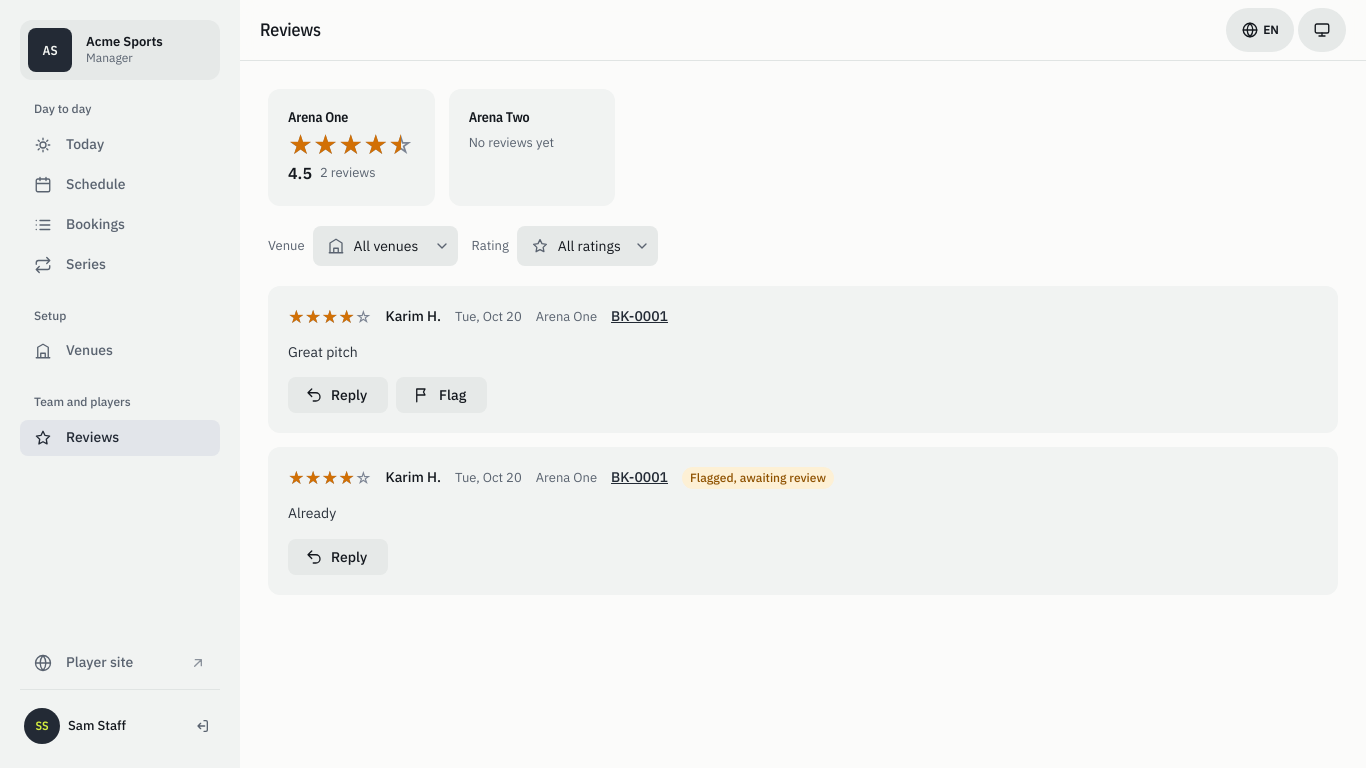
Test: owner Reviews page › flag sends POST with reason and shows the flagged badge; no flag button on a flagged review
The width and height of the screenshot is (1366, 768).
Expected: the text "Great pitch" is shown, [288, 343, 358, 361]
Expected: the text "Flagged, awaiting review" is shown once, [682, 467, 834, 489]
Click the button "Flag": (442, 395) [396, 377, 487, 413]
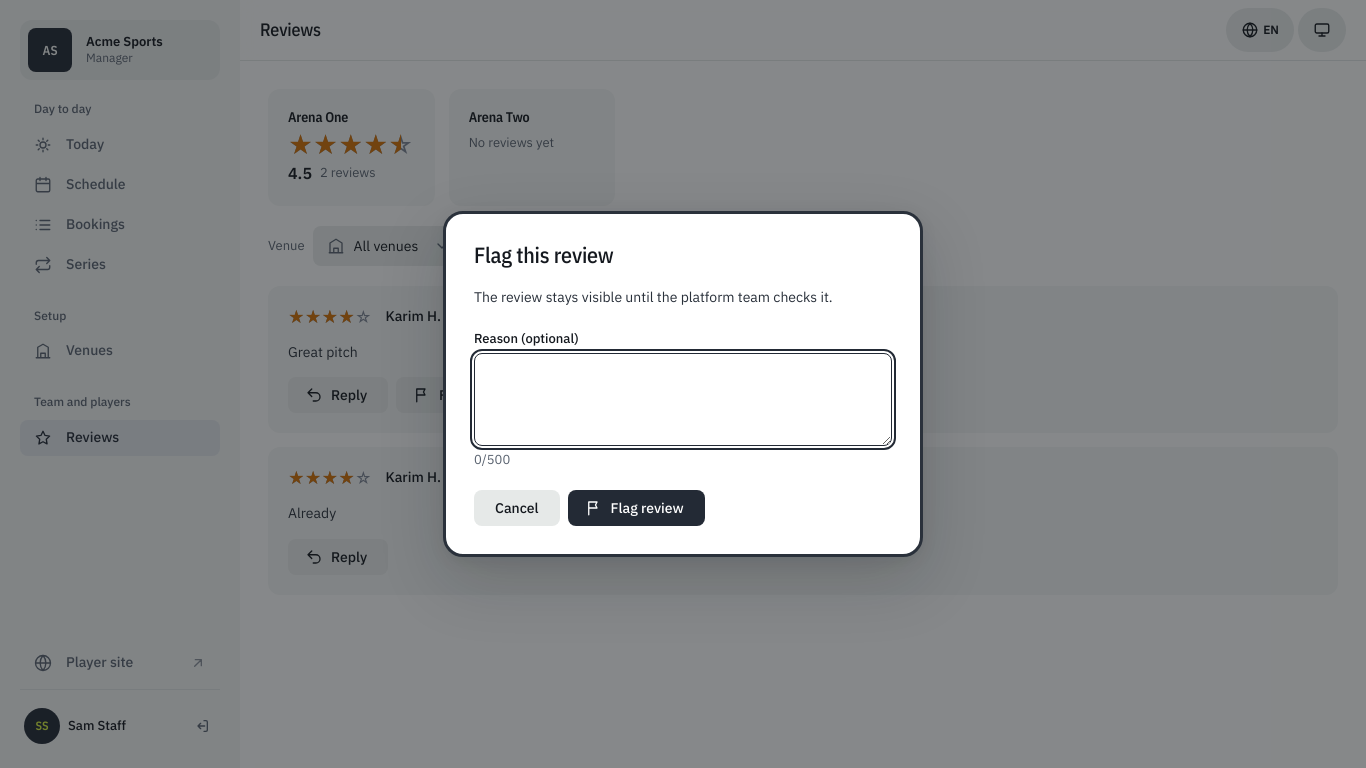
Expected: the text "The review stays visible until the platform team checks it." is shown, [474, 288, 892, 309]
In the text box labelled "Reason (optional)": (683, 400) [474, 353, 892, 446], type "Spam"
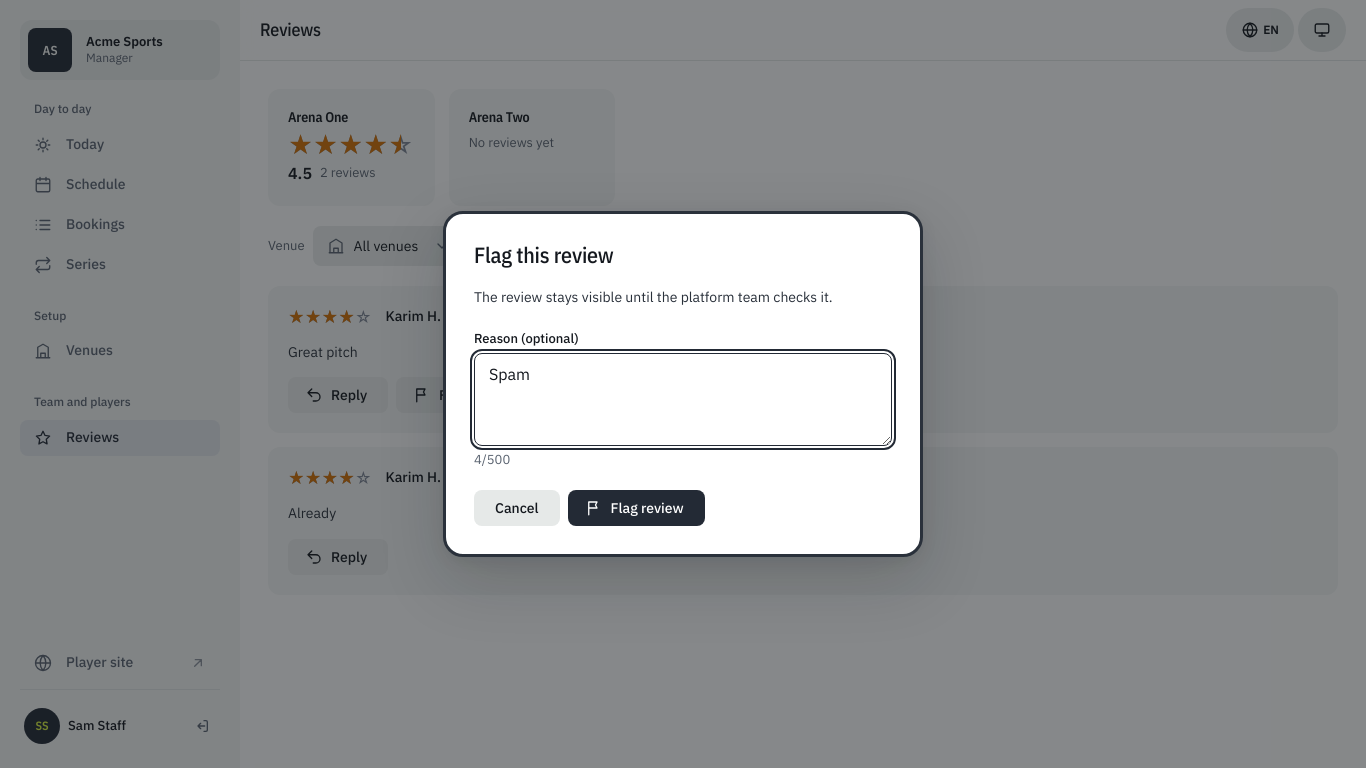
Expected: the text "4/500" is shown, [474, 451, 510, 468]
Click the button "Flag review": (636, 508) [568, 490, 705, 526]
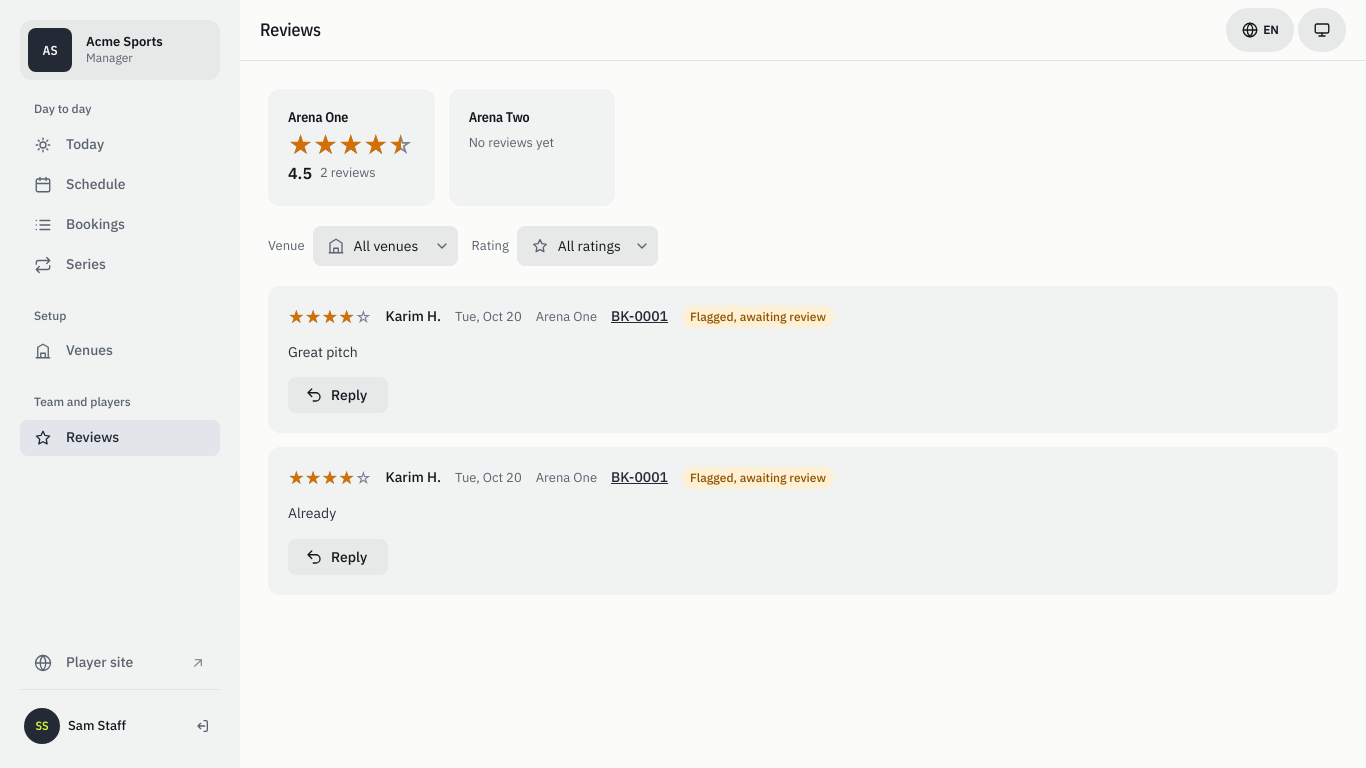
Expected: the text "Flagged, awaiting review" is shown 2 times, [682, 306, 834, 328]; [682, 467, 834, 489]
